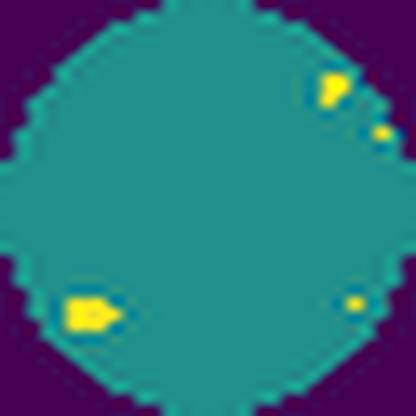Loc: (58, 286, 130, 342), (321, 73, 357, 116)
